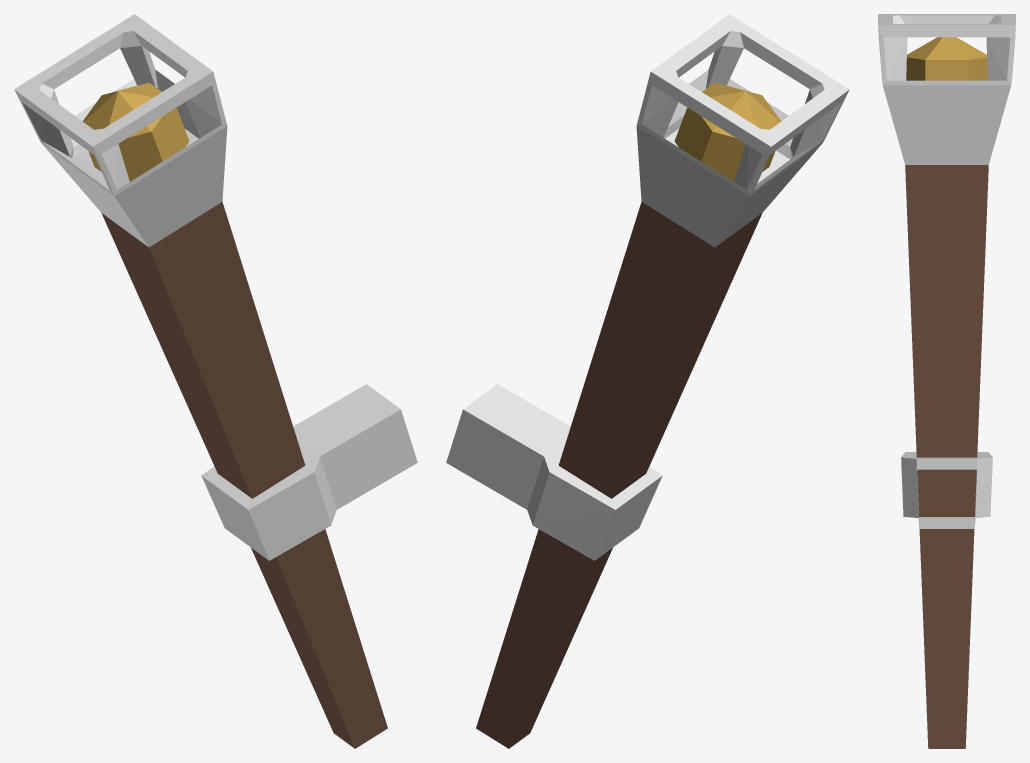
File: Torches.fbx
3 views of the same model, side by side, from view 1: azimuth 30°, elevation 25°; view 2: azimuth 150°, elevation 25°; view 3: azimuth 270°, elevation 25° (orthographic). The views are drawn at different scales.
Visible parts, largest first — view 1: Torches; view 2: Torches; view 3: Torches.
Boxes of the visible parts, bbox=[...] form: Torches: bbox=[14, 14, 417, 748]; Torches: bbox=[446, 14, 849, 748]; Torches: bbox=[878, 14, 1015, 748].
Size of the model in its own units: 0.7172 by 1.46 by 0.2803.
